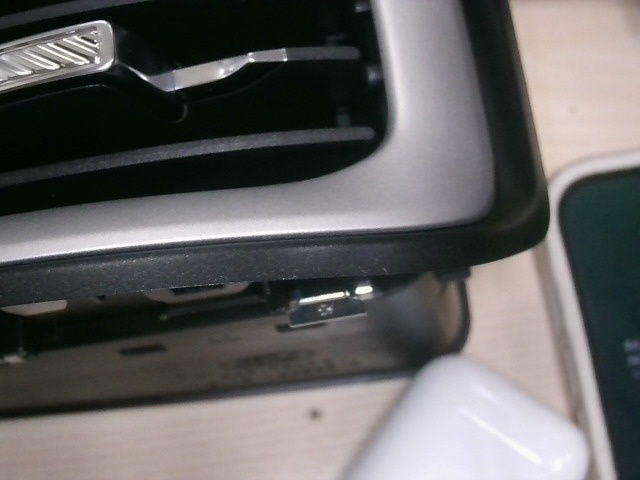NG: (347, 254, 395, 278)
